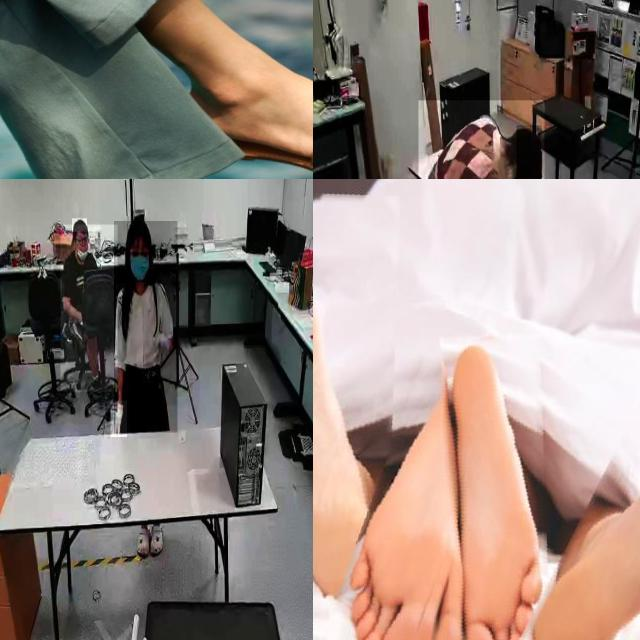Barefoots: (381, 320, 610, 640), (313, 179, 457, 640), (321, 302, 514, 640), (531, 231, 640, 640)
Sandals: (181, 68, 313, 179)
face_mask: (126, 252, 154, 282)
glasses: (75, 234, 90, 246)
hand_glove: (110, 400, 128, 438)
head_nohelmet: (516, 125, 541, 179), (126, 218, 150, 236), (72, 218, 88, 232)
person: (114, 221, 178, 433), (418, 100, 545, 179), (61, 225, 118, 392)
